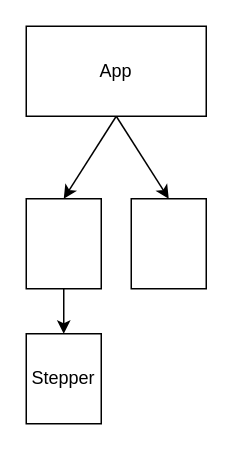
This 233x450 diagram has some shape labels left out. The shapes that lost their labels are listed below. From the top down, each one's box as (x1, y1, x2, y2) in pixels, then its label:
(25, 197, 101, 289): Counter
(130, 197, 206, 289): Joke
